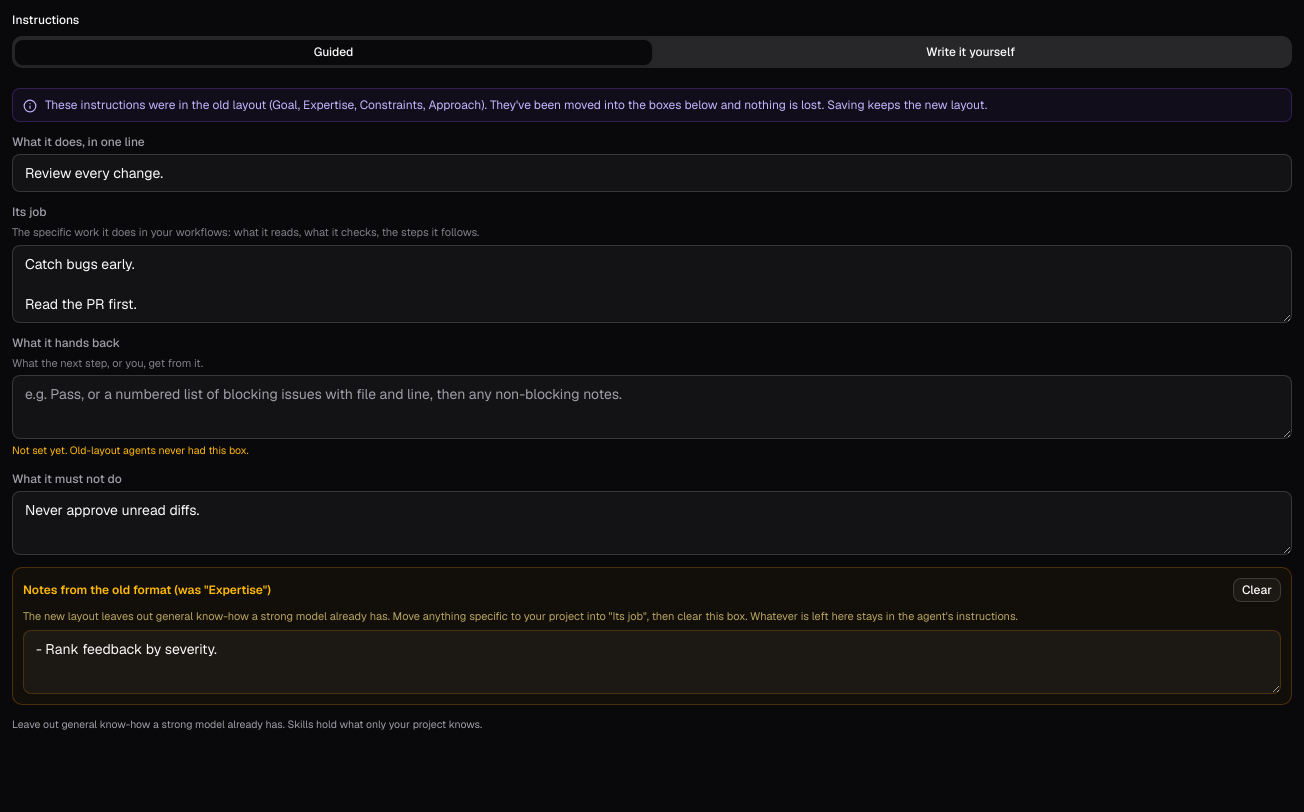
Test: AgentInstructionsEditor › clearing the leftover box removes the notes from the saved text
Click the button "Clear" at coordinates (1257, 590), box x1=1233 y1=578 x2=1281 y2=602
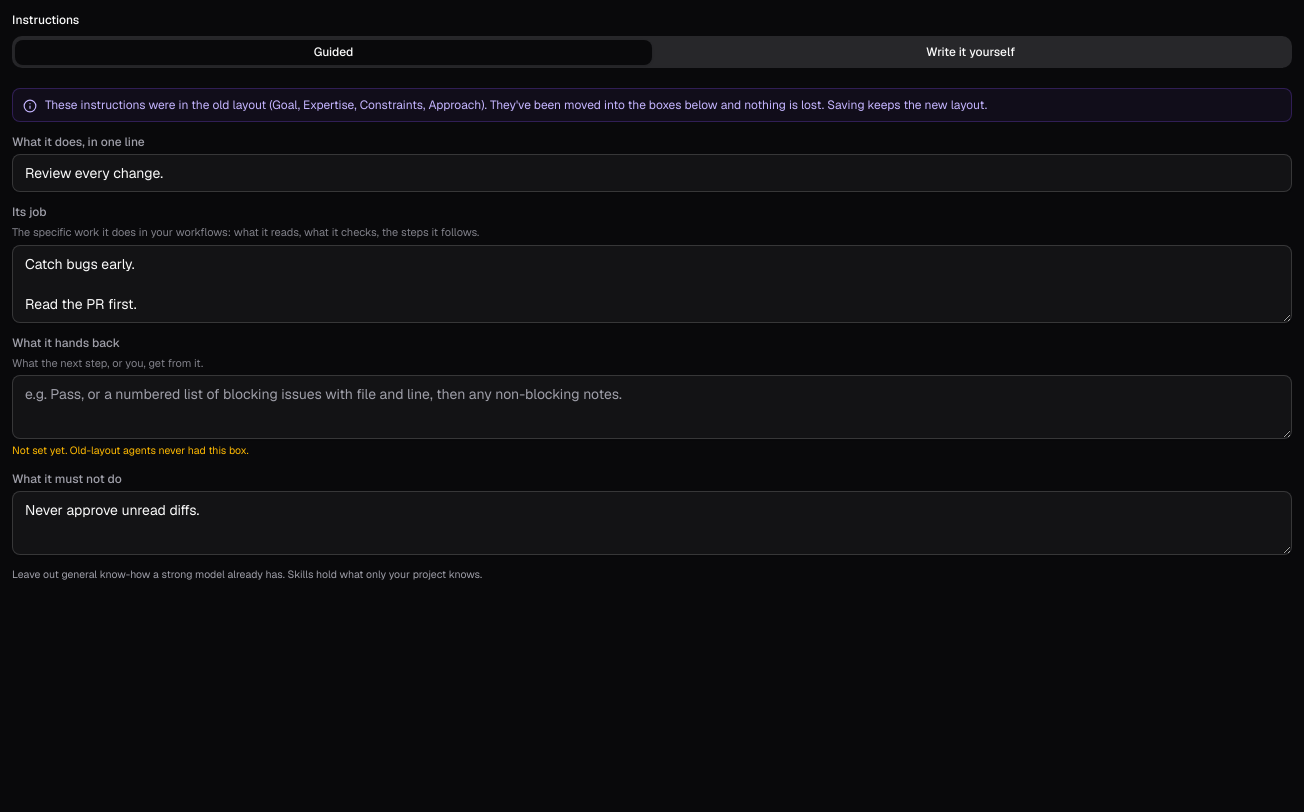
Now the label labelled "Notes from the old format" is gone
